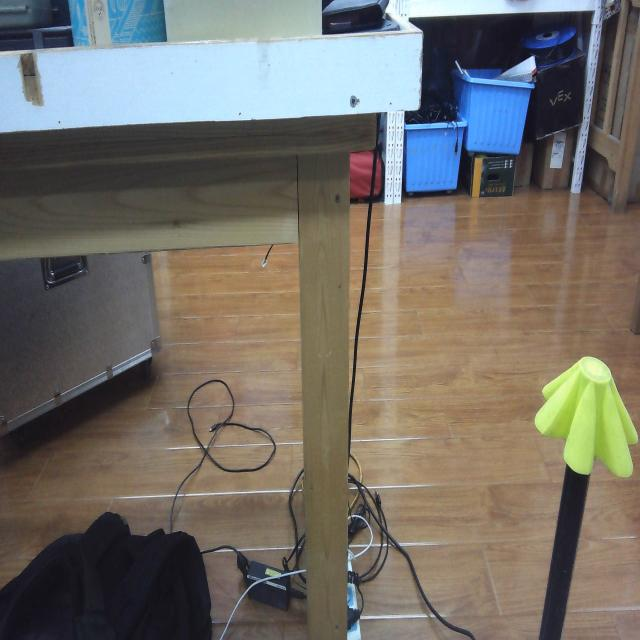Yellow-Stake-Head: (534, 356, 638, 478)
